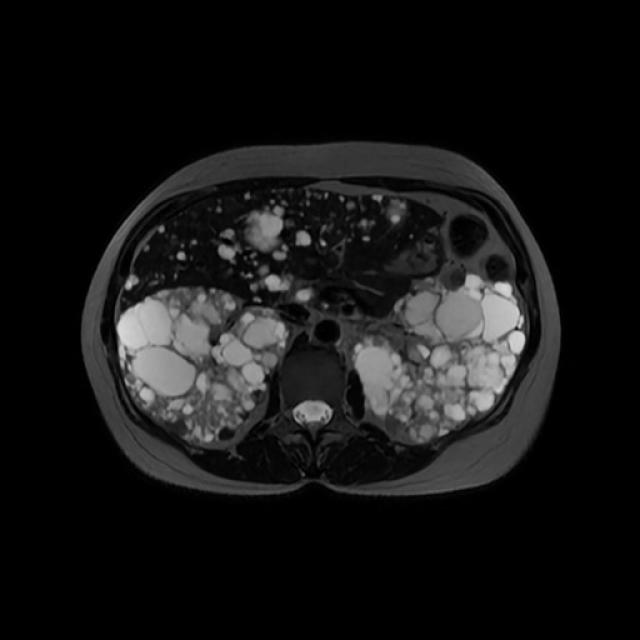sag: (116, 286, 291, 448)
sol: (347, 262, 526, 442)
